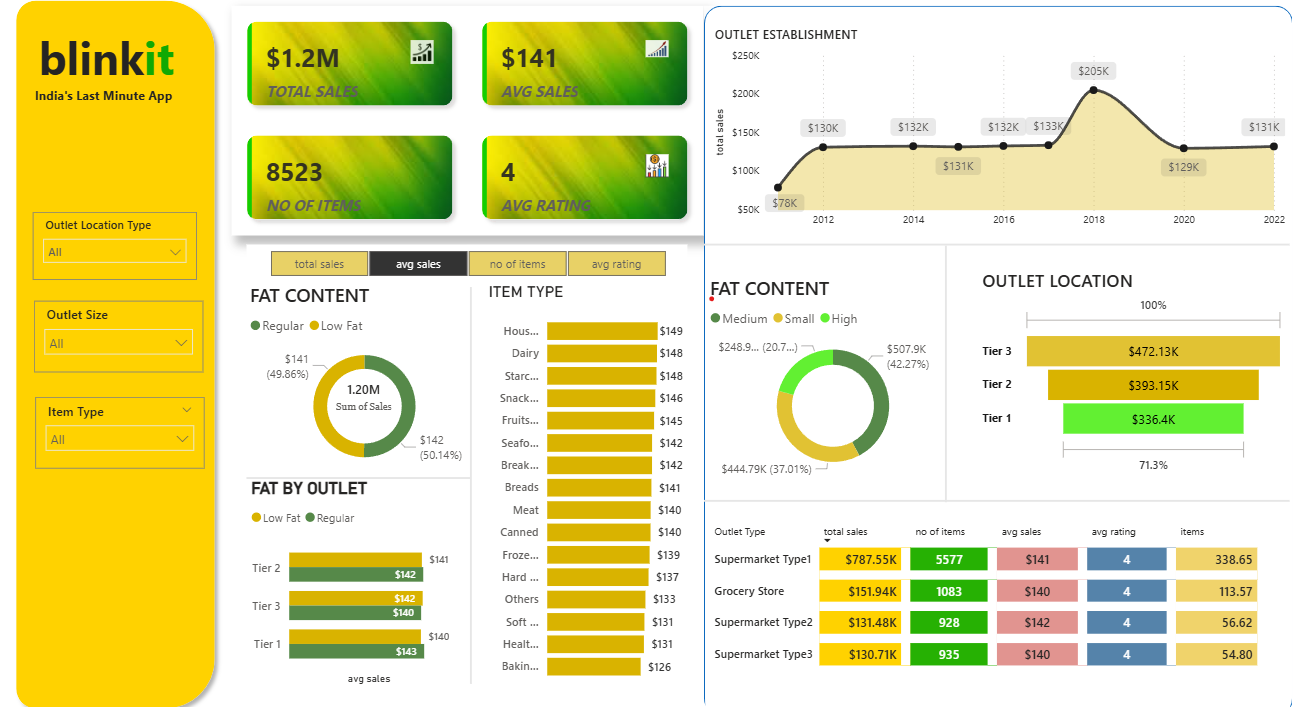

The dashboard page shown, as its layout file describes it:
{"tool":"powerbi","page":{"name":"Page 1","canvas":[1400,800],"ordinal":0},"visuals":[{"type":"shape","box":[9.8,0,231,777.4],"z":0},{"type":"textbox","box":[276.1,705.1,230.6,72.4],"z":1000},{"type":"textbox","box":[37.5,32.2,174.3,75.1],"z":2000},{"type":"textbox","box":[33.5,96.5,191.7,41.6],"z":3000},{"type":"cardVisual","fields":{"Data":["BlinkIT Grocery Data.total sales","BlinkIT Grocery Data.avg sales","BlinkIT Grocery Data.no of items","BlinkIT Grocery Data.avg rating"]},"box":[249.3,14.7,506.7,246.7],"z":4000},{"type":"donutChart","title":"FAT CONTENT","fields":{"Y":["BlinkIT Grocery Data.avg sales"],"Category":["BlinkIT Grocery Data.Item Fat Content"]},"box":[264.1,311,256,210.5],"z":5000},{"type":"slicer","fields":{"Values":["METRIC.METRIC"]},"box":[265.4,270.8,473.2,40.2],"z":6000},{"type":"cardVisual","fields":{"Data":["Sum(BlinkIT Grocery Data.Sales)"]},"box":[329.8,399.5,123.3,69.7],"z":7000},{"type":"clusteredBarChart","title":"FAT BY OUTLET","fields":{"Y":["BlinkIT Grocery Data.avg sales"],"Series":["BlinkIT Grocery Data.Item Fat Content"],"Category":["BlinkIT Grocery Data.Outlet Location Type"]},"box":[265.4,521.5,222.5,226.5],"z":8000},{"type":"barChart","title":"ITEM TYPE","fields":{"Y":["BlinkIT Grocery Data.avg sales"],"Category":["BlinkIT Grocery Data.Item Type"]},"box":[520.1,311,218.5,437],"z":9000},{"type":"shape","box":[756.7,15,631.7,761.7],"z":10000},{"type":"lineChart","title":"OUTLET ESTABLISHMENT","fields":{"Y":["BlinkIT Grocery Data.total sales"],"Category":["BlinkIT Grocery Data.Outlet Establishment Year"]},"box":[763.3,36.7,621.7,225],"z":11000},{"type":"donutChart","title":"FAT CONTENT","fields":{"Y":["BlinkIT Grocery Data.total sales"],"Category":["BlinkIT Grocery Data.Outlet Size"]},"box":[757.1,302.9,274.3,225.7],"z":12000},{"type":"funnel","title":"OUTLET LOCATION","fields":{"Y":["BlinkIT Grocery Data.total sales"],"Category":["BlinkIT Grocery Data.Outlet Location Type"]},"box":[1050,295.7,334.3,225.7],"z":13000},{"type":"pivotTable","fields":{"Values":["BlinkIT Grocery Data.total sales","BlinkIT Grocery Data.no of items","BlinkIT Grocery Data.avg sales","BlinkIT Grocery Data.avg rating","Sum(BlinkIT Grocery Data.Item Visibility)"],"Rows":["BlinkIT Grocery Data.Outlet Type"]},"box":[757.1,562.9,611.4,214.3],"z":14000},{"type":"slicer","fields":{"Values":["BlinkIT Grocery Data.Outlet Location Type"]},"box":[35.7,235.7,175.7,72.9],"z":15000},{"type":"slicer","fields":{"Values":["BlinkIT Grocery Data.Outlet Size"]},"box":[37.1,331.4,181.4,77.1],"z":16000},{"type":"slicer","fields":{"Values":["BlinkIT Grocery Data.Item Type"]},"box":[38.6,434.3,181.4,77.1],"z":17000},{"type":"shape","box":[265.7,448.6,240,144.3],"z":18000},{"type":"shape","box":[385.7,315.7,240,425.7],"z":19000},{"type":"shape","box":[756.7,198.3,628.3,145],"z":20000},{"type":"shape","box":[756.7,473.3,628.3,145],"z":21000},{"type":"shape","box":[895,271.7,240,275],"z":22000}]}

Visuals, with their boxes on the page's 1400x800 design canvas (x1, y1, x2, y2). These are canvas units, not pixel positions in the 1297x707 screenshot, which may show the page scaled, cropped or inside an application window:
shape: region(10, 0, 241, 777)
textbox: region(276, 705, 507, 778)
textbox: region(38, 32, 212, 107)
textbox: region(34, 96, 225, 138)
cardVisual - BlinkIT Grocery Data.total sales x BlinkIT Grocery Data.avg sales: region(249, 15, 756, 261)
"FAT CONTENT" donutChart: region(264, 311, 520, 522)
slicer - METRIC.METRIC: region(265, 271, 739, 311)
cardVisual - Sum(BlinkIT Grocery Data.Sales): region(330, 400, 453, 469)
"FAT BY OUTLET" clusteredBarChart: region(265, 522, 488, 748)
"ITEM TYPE" barChart: region(520, 311, 739, 748)
shape: region(757, 15, 1388, 777)
"OUTLET ESTABLISHMENT" lineChart: region(763, 37, 1385, 262)
"FAT CONTENT" donutChart: region(757, 303, 1031, 529)
"OUTLET LOCATION" funnel: region(1050, 296, 1384, 521)
pivotTable - BlinkIT Grocery Data.total sales x BlinkIT Grocery Data.no of items: region(757, 563, 1368, 777)
slicer - BlinkIT Grocery Data.Outlet Location Type: region(36, 236, 211, 309)
slicer - BlinkIT Grocery Data.Outlet Size: region(37, 331, 218, 408)
slicer - BlinkIT Grocery Data.Item Type: region(39, 434, 220, 511)
shape: region(266, 449, 506, 593)
shape: region(386, 316, 626, 741)
shape: region(757, 198, 1385, 343)
shape: region(757, 473, 1385, 618)
shape: region(895, 272, 1135, 547)
